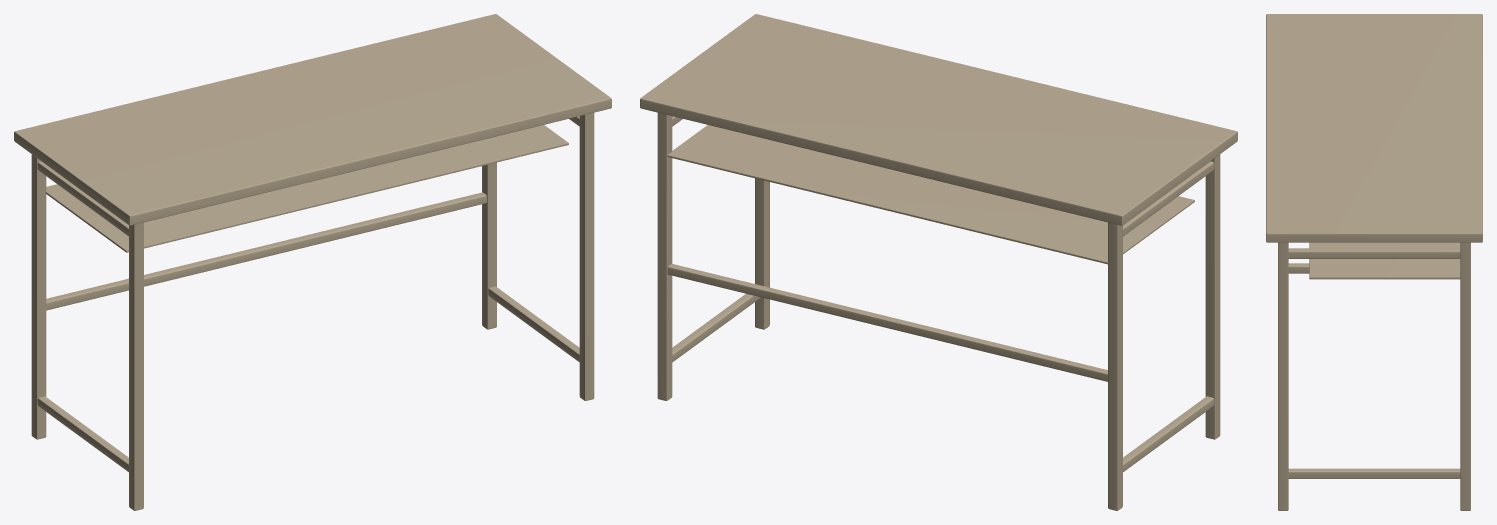
The model's file is desk.glb.
3 renders of one model, left to right at view 1: azimuth 30°, elevation 25°; view 2: azimuth 150°, elevation 25°; view 3: azimuth 270°, elevation 25°, orthographic. The views are drawn at different scales.
Visible parts, largest first — view 1: desk; view 2: desk; view 3: desk.
Boxes of the visible parts, bbox=[...] form: desk: bbox=[14, 14, 611, 510]; desk: bbox=[640, 14, 1237, 510]; desk: bbox=[1266, 14, 1482, 510].
Bounding box in the file's own units: 1.2 × 0.72 × 0.5.
